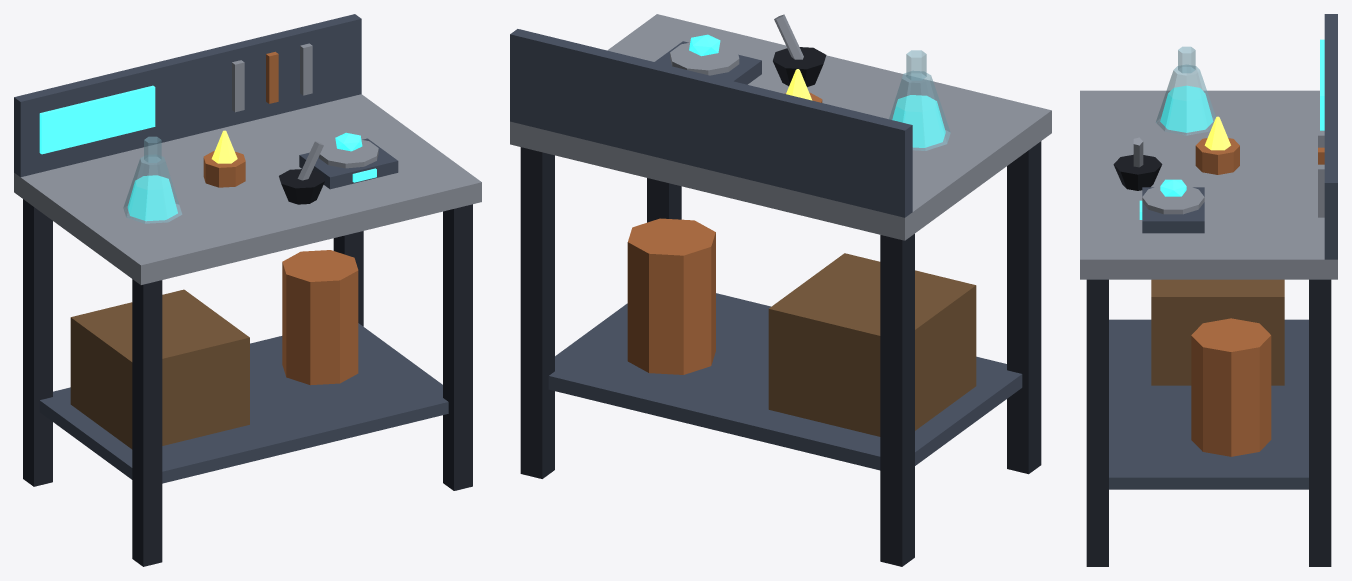
Rendered from workbench.glb.
3 views of the same model, side by side, from view 1: azimuth 30°, elevation 25°; view 2: azimuth 150°, elevation 25°; view 3: azimuth 270°, elevation 25° (orthographic). The views are drawn at different scales.
Parts seen in each view (by area): view 1: workbench; view 2: workbench; view 3: workbench.
Boxes of the visible parts, x1=… form: workbench: x1=14, y1=14, x2=481, y2=566; workbench: x1=510, y1=14, x2=1051, y2=566; workbench: x1=1080, y1=14, x2=1337, y2=566.
Size of the model in its own units: 0.9 by 0.96 by 0.58.
